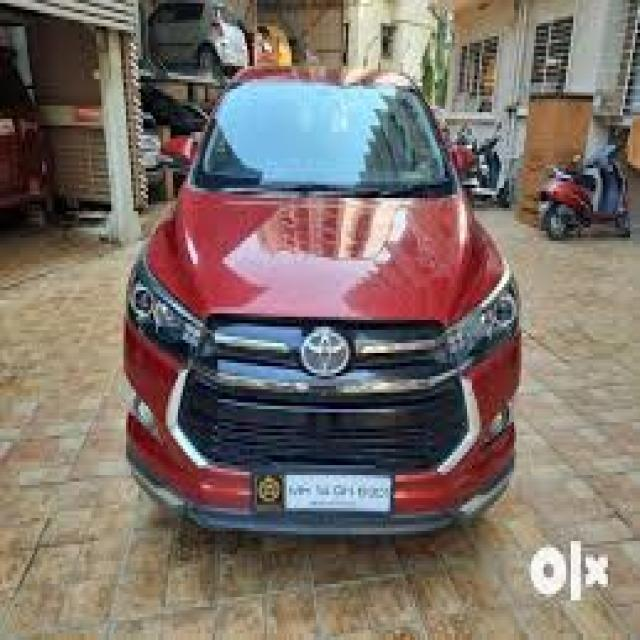light_vehicle: (125, 64, 523, 537)
